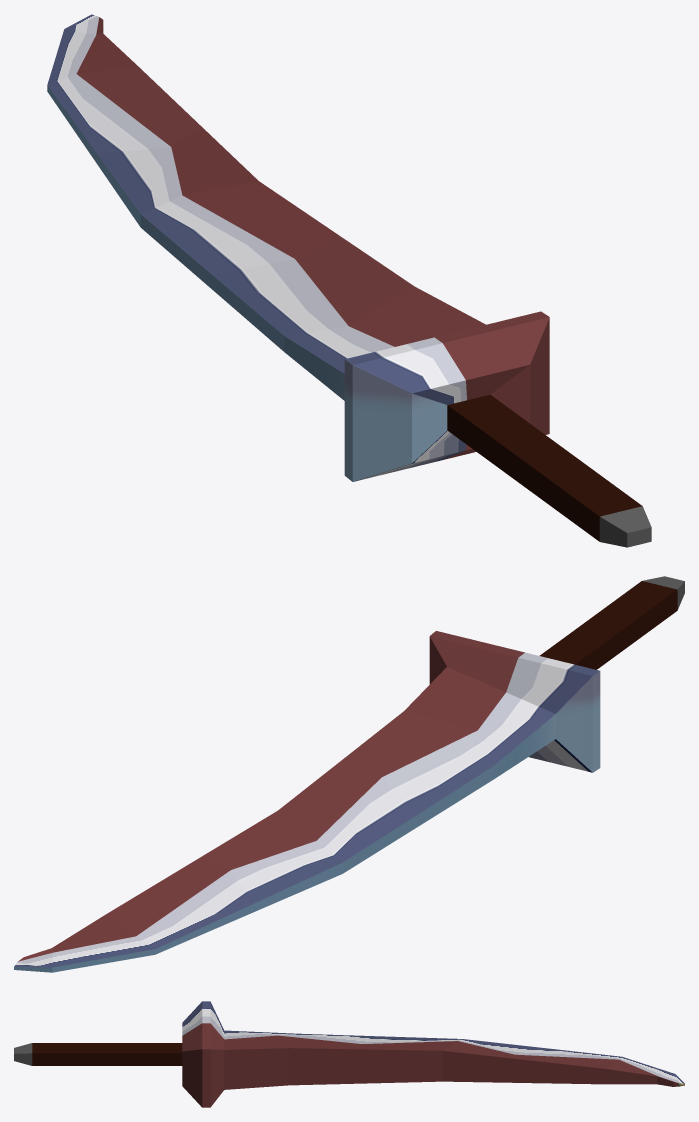
Rendered from 1-Sword.fbx.
3 renders of one model, top to bottom at view 1: azimuth 30°, elevation 25°; view 2: azimuth 150°, elevation 25°; view 3: azimuth 270°, elevation 25°, orthographic. The views are drawn at different scales.
Visible parts, largest first — view 1: Sword1; view 2: Sword1; view 3: Sword1.
Part boxes in pixels (x1=…): Sword1: x1=47, y1=14, x2=651, y2=547; Sword1: x1=14, y1=576, x2=684, y2=972; Sword1: x1=14, y1=1001, x2=684, y2=1107.
Size of the model in its own units: 101 by 50.31 by 523.
